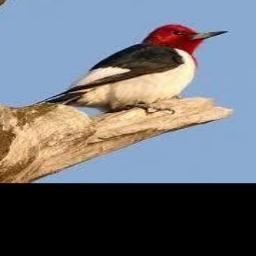Woodpecker: (44, 24, 227, 109)
